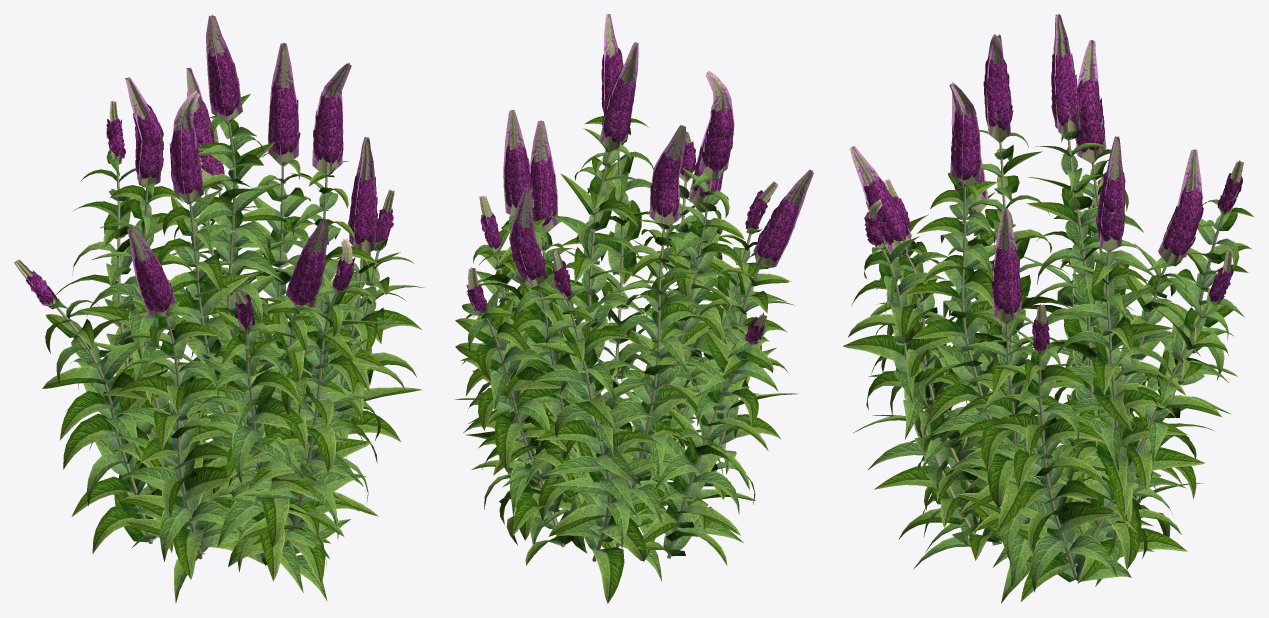
The model's file is bbc.glb.
3 views of the same model, side by side, from view 1: azimuth 30°, elevation 25°; view 2: azimuth 150°, elevation 25°; view 3: azimuth 270°, elevation 25° (orthographic). The views are drawn at different scales.
Visible parts, largest first — view 1: LOD0; view 2: LOD0; view 3: LOD0.
Part boxes in pixels (x1,y1,x2,y2): LOD0: (14,14,424,603); LOD0: (454,14,813,603); LOD0: (843,14,1253,603).
Bounding box in the file's own units: 0.9641 × 1.41 × 0.9583.
1 material, 1 textured.
